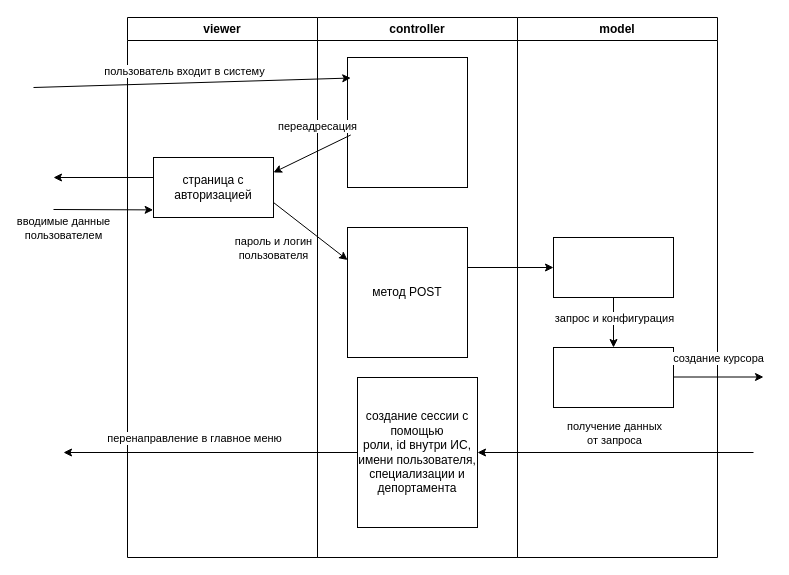
The diagram is 789 pixels wide and 575 high, and some of its shapes have lost their labels. The shapes that lost their labels are listed below. From the top down, each one's centre as x and y in pixels, then its label:
At [407,122]: "метод GET".
At [613,267]: "вставление данных в запрос с помощью provider".
At [613,377]: "попытка подлючения к ИС".
